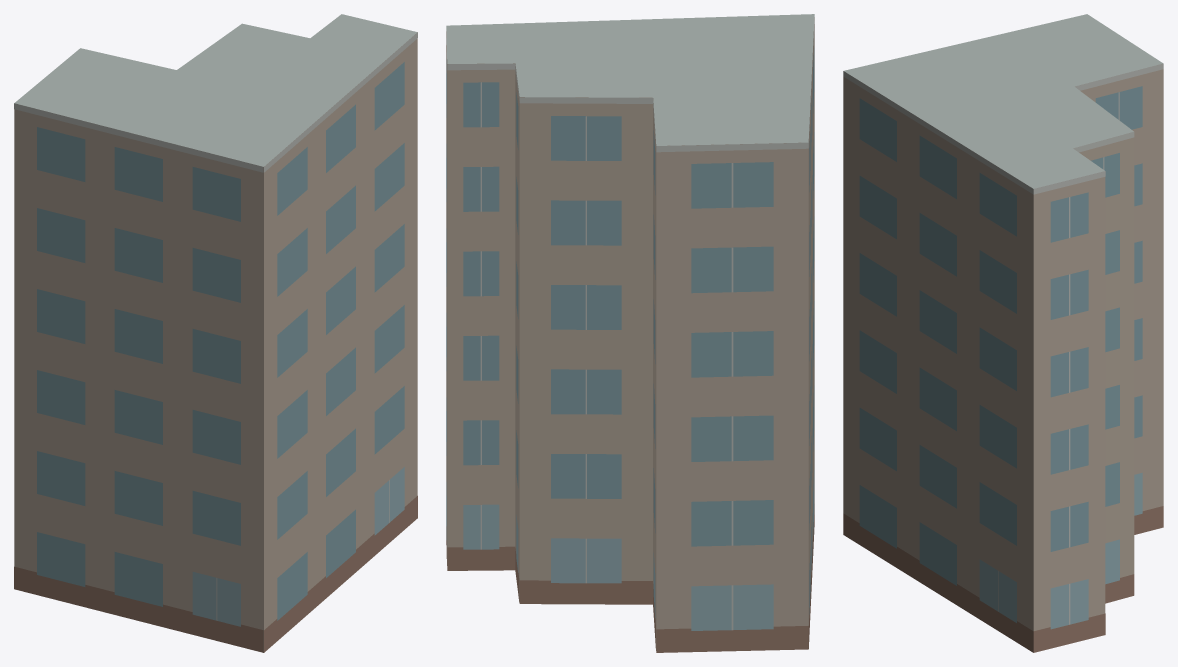
Rendered from survey-upis-32482170.glb.
3 views of the same model, side by side, from view 1: azimuth 30°, elevation 25°; view 2: azimuth 150°, elevation 25°; view 3: azimuth 270°, elevation 25° (orthographic). The views are drawn at different scales.
Visible parts, largest first — view 1: survey-upis-32482170.tmp; view 2: survey-upis-32482170.tmp; view 3: survey-upis-32482170.tmp.
Boxes of the visible parts, left/top/right/bottom form: survey-upis-32482170.tmp: left=14, top=14, right=417, bottom=652; survey-upis-32482170.tmp: left=446, top=14, right=814, bottom=652; survey-upis-32482170.tmp: left=843, top=14, right=1163, bottom=652.
Size of the model in its own units: 16.09 by 19.89 by 12.45.
